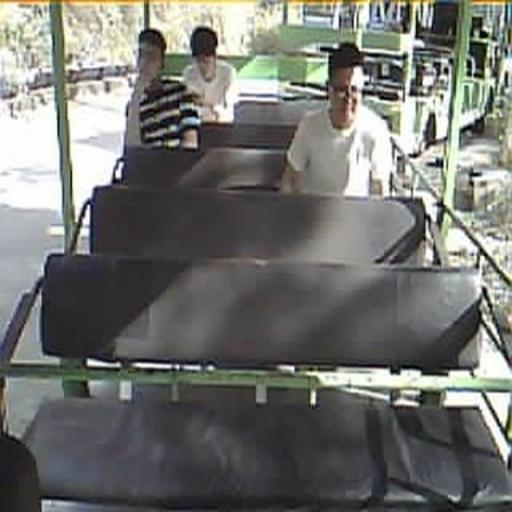persona: (280, 42, 394, 200), (122, 27, 202, 160), (181, 25, 236, 119)
